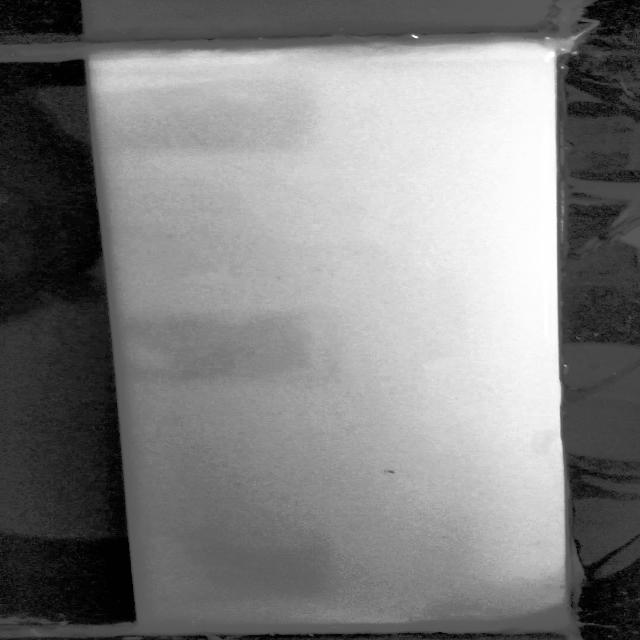shrimp: (379, 464, 408, 480)
